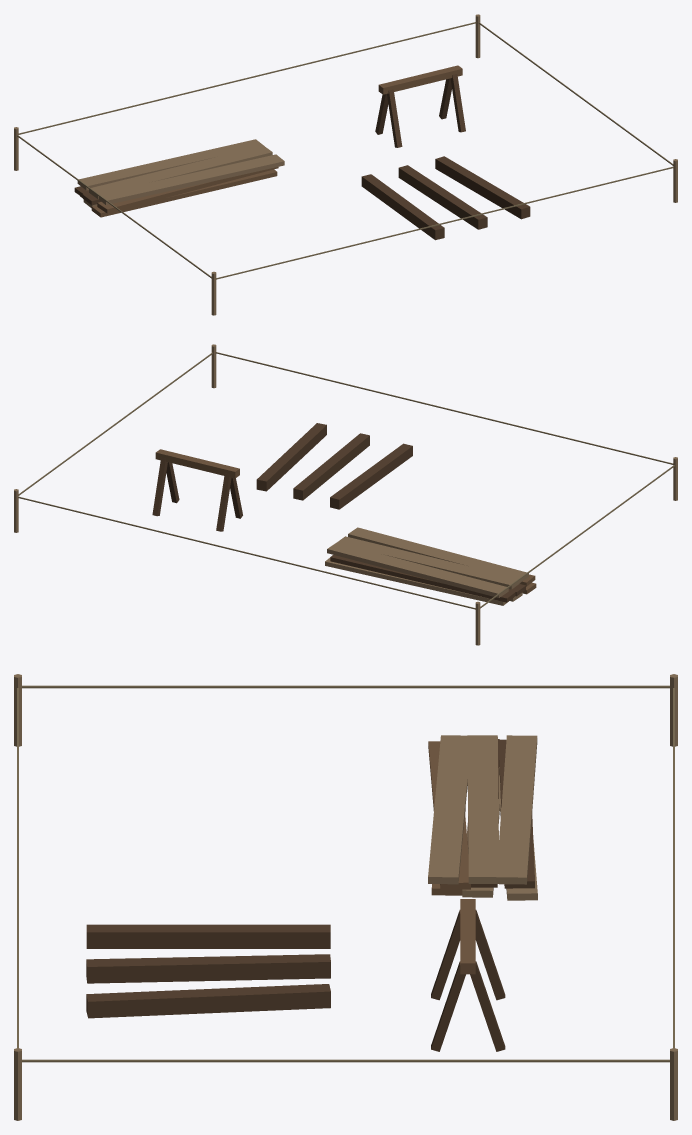
The model's file is room_site_large.glb.
The picture shows the model from 3 angles, top to bottom: view 1: azimuth 30°, elevation 25°; view 2: azimuth 150°, elevation 25°; view 3: azimuth 270°, elevation 25°; orthographic projection. The views are drawn at different scales.
Visible parts, largest first — view 1: room_site_large; view 2: room_site_large; view 3: room_site_large.
Boxes of the visible parts, x1=… form: room_site_large: x1=14, y1=14, x2=677, y2=315; room_site_large: x1=14, y1=344, x2=677, y2=645; room_site_large: x1=14, y1=674, x2=677, y2=1120.
Size of the model in its own units: 5.86 by 0.6746 by 4.35.
